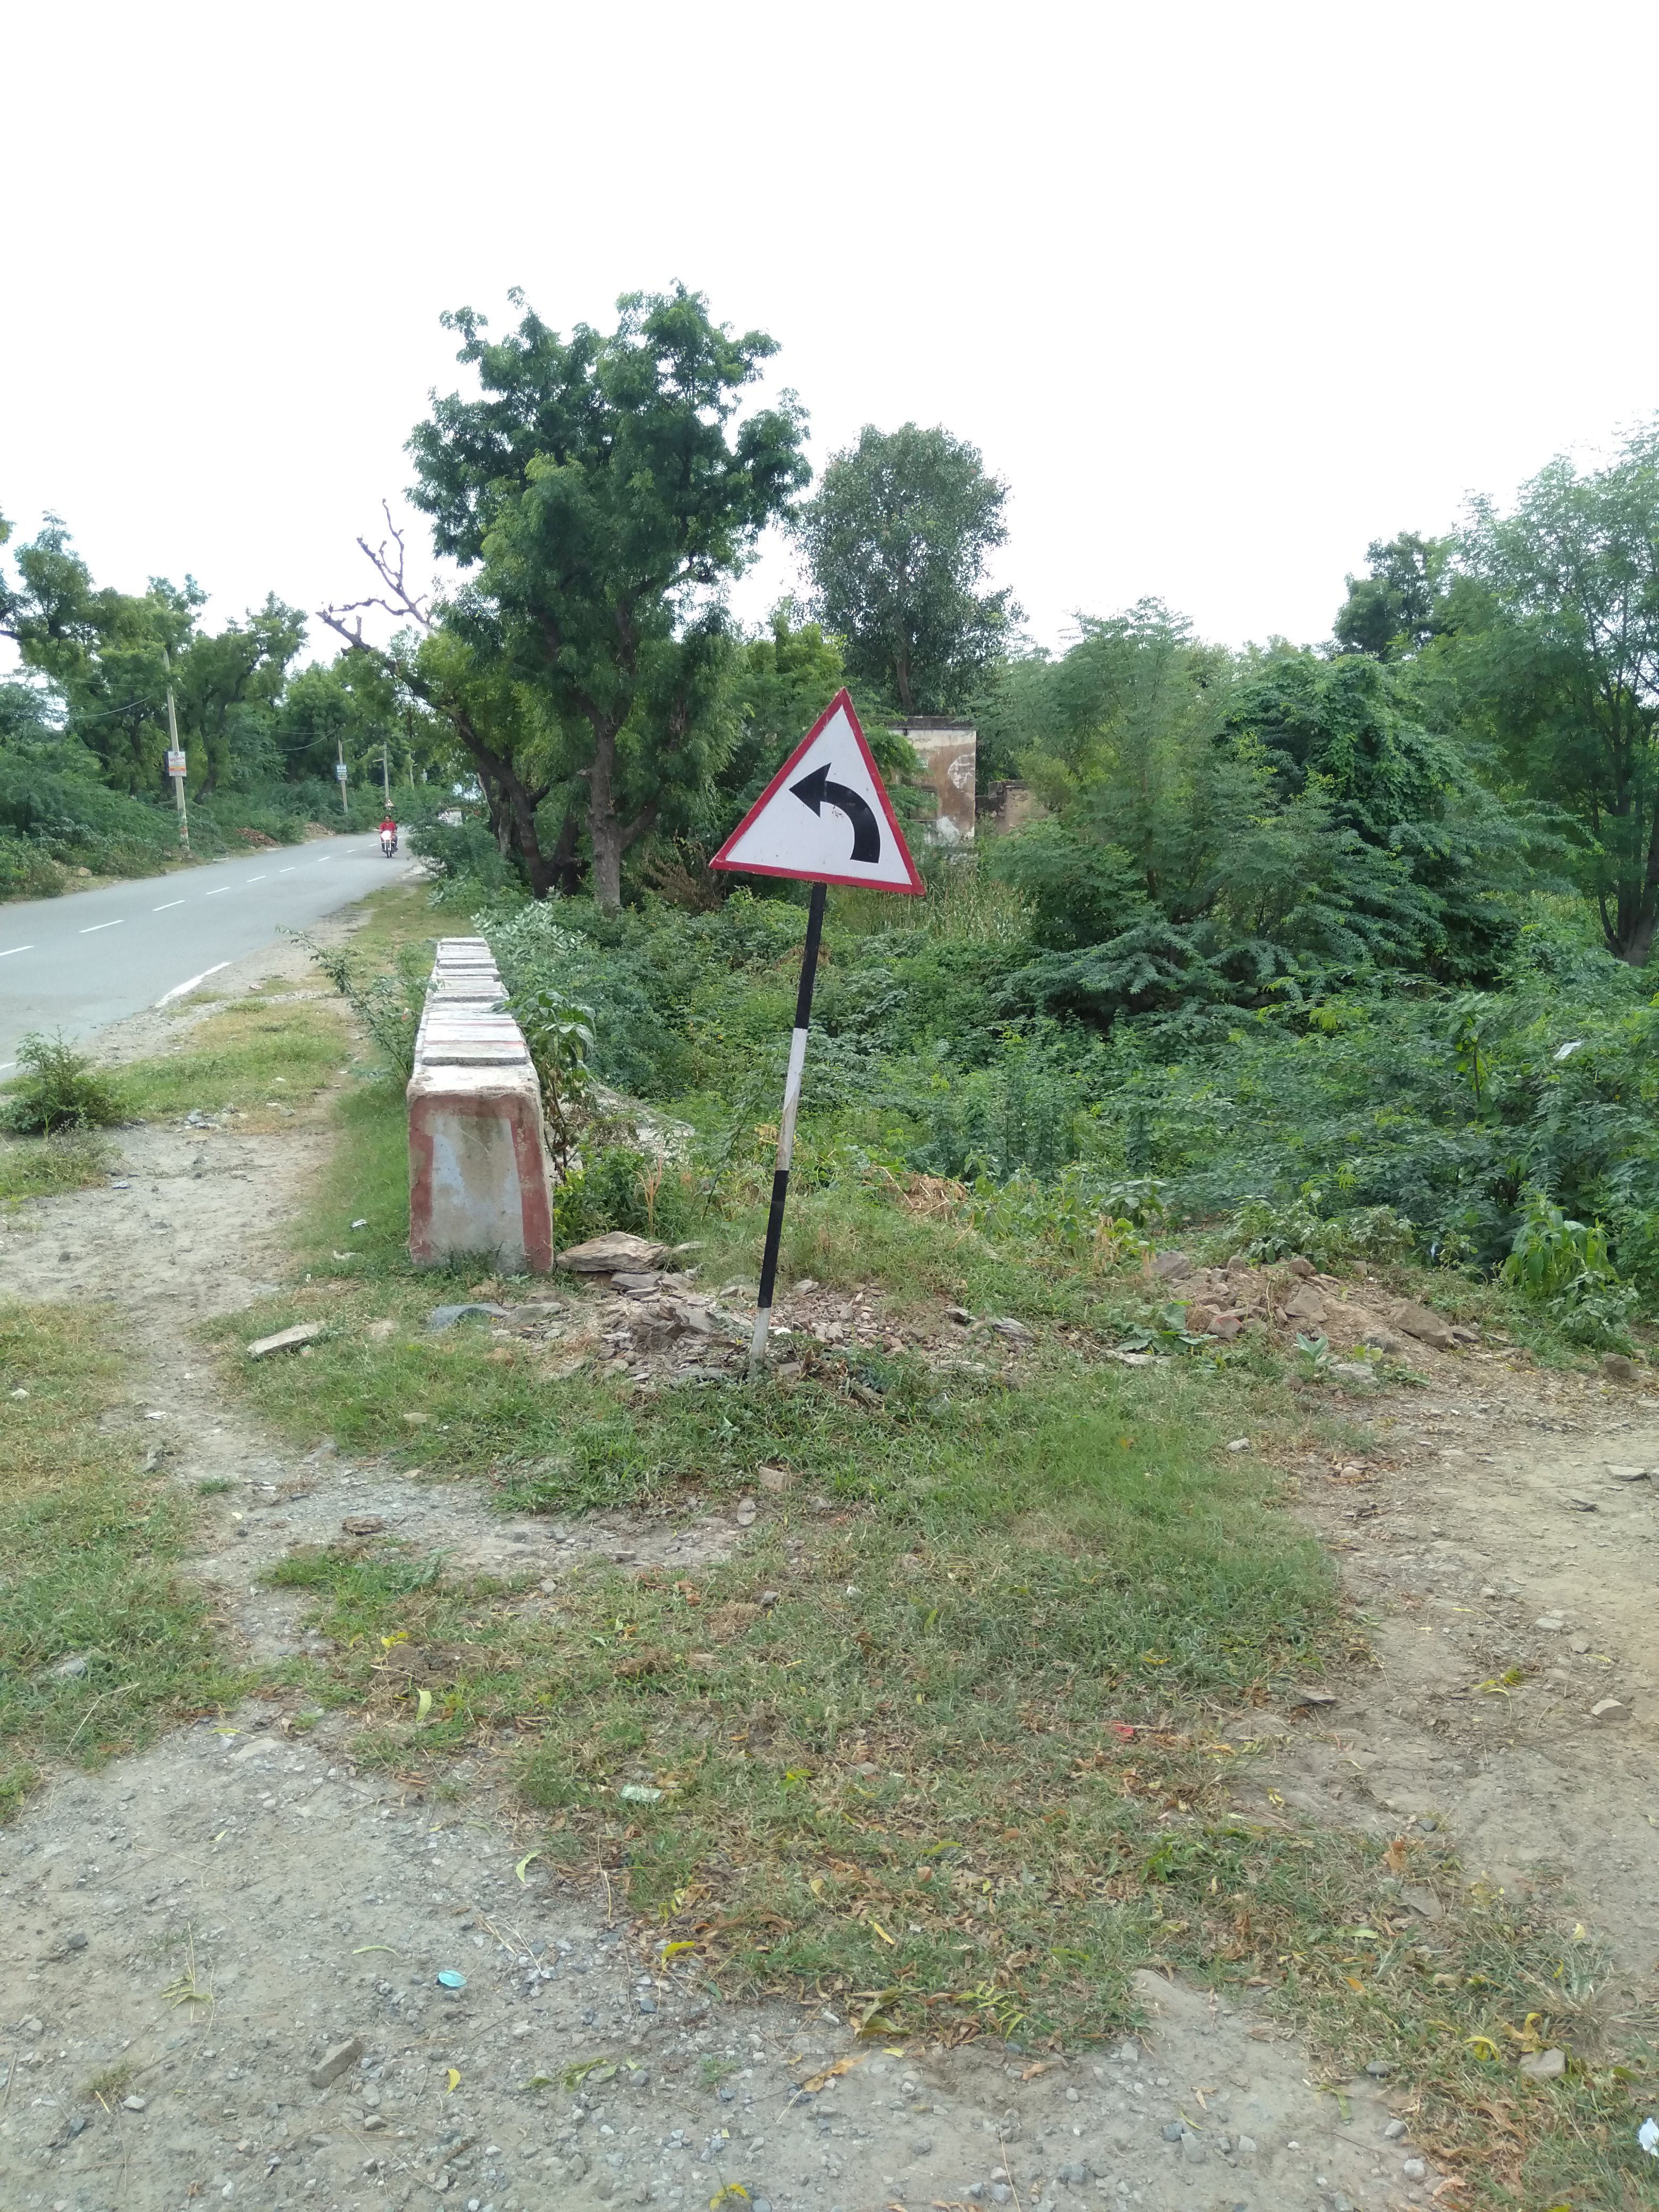traffic_sign: (706, 686, 924, 899)
